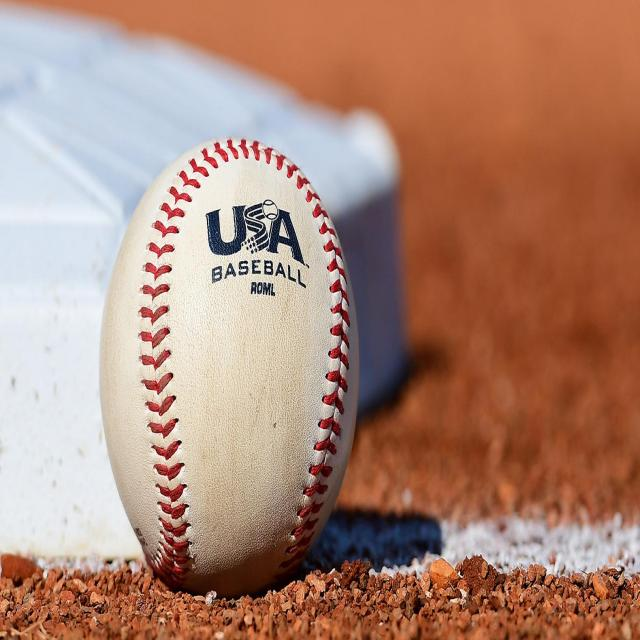baseball: (97, 133, 362, 598)
